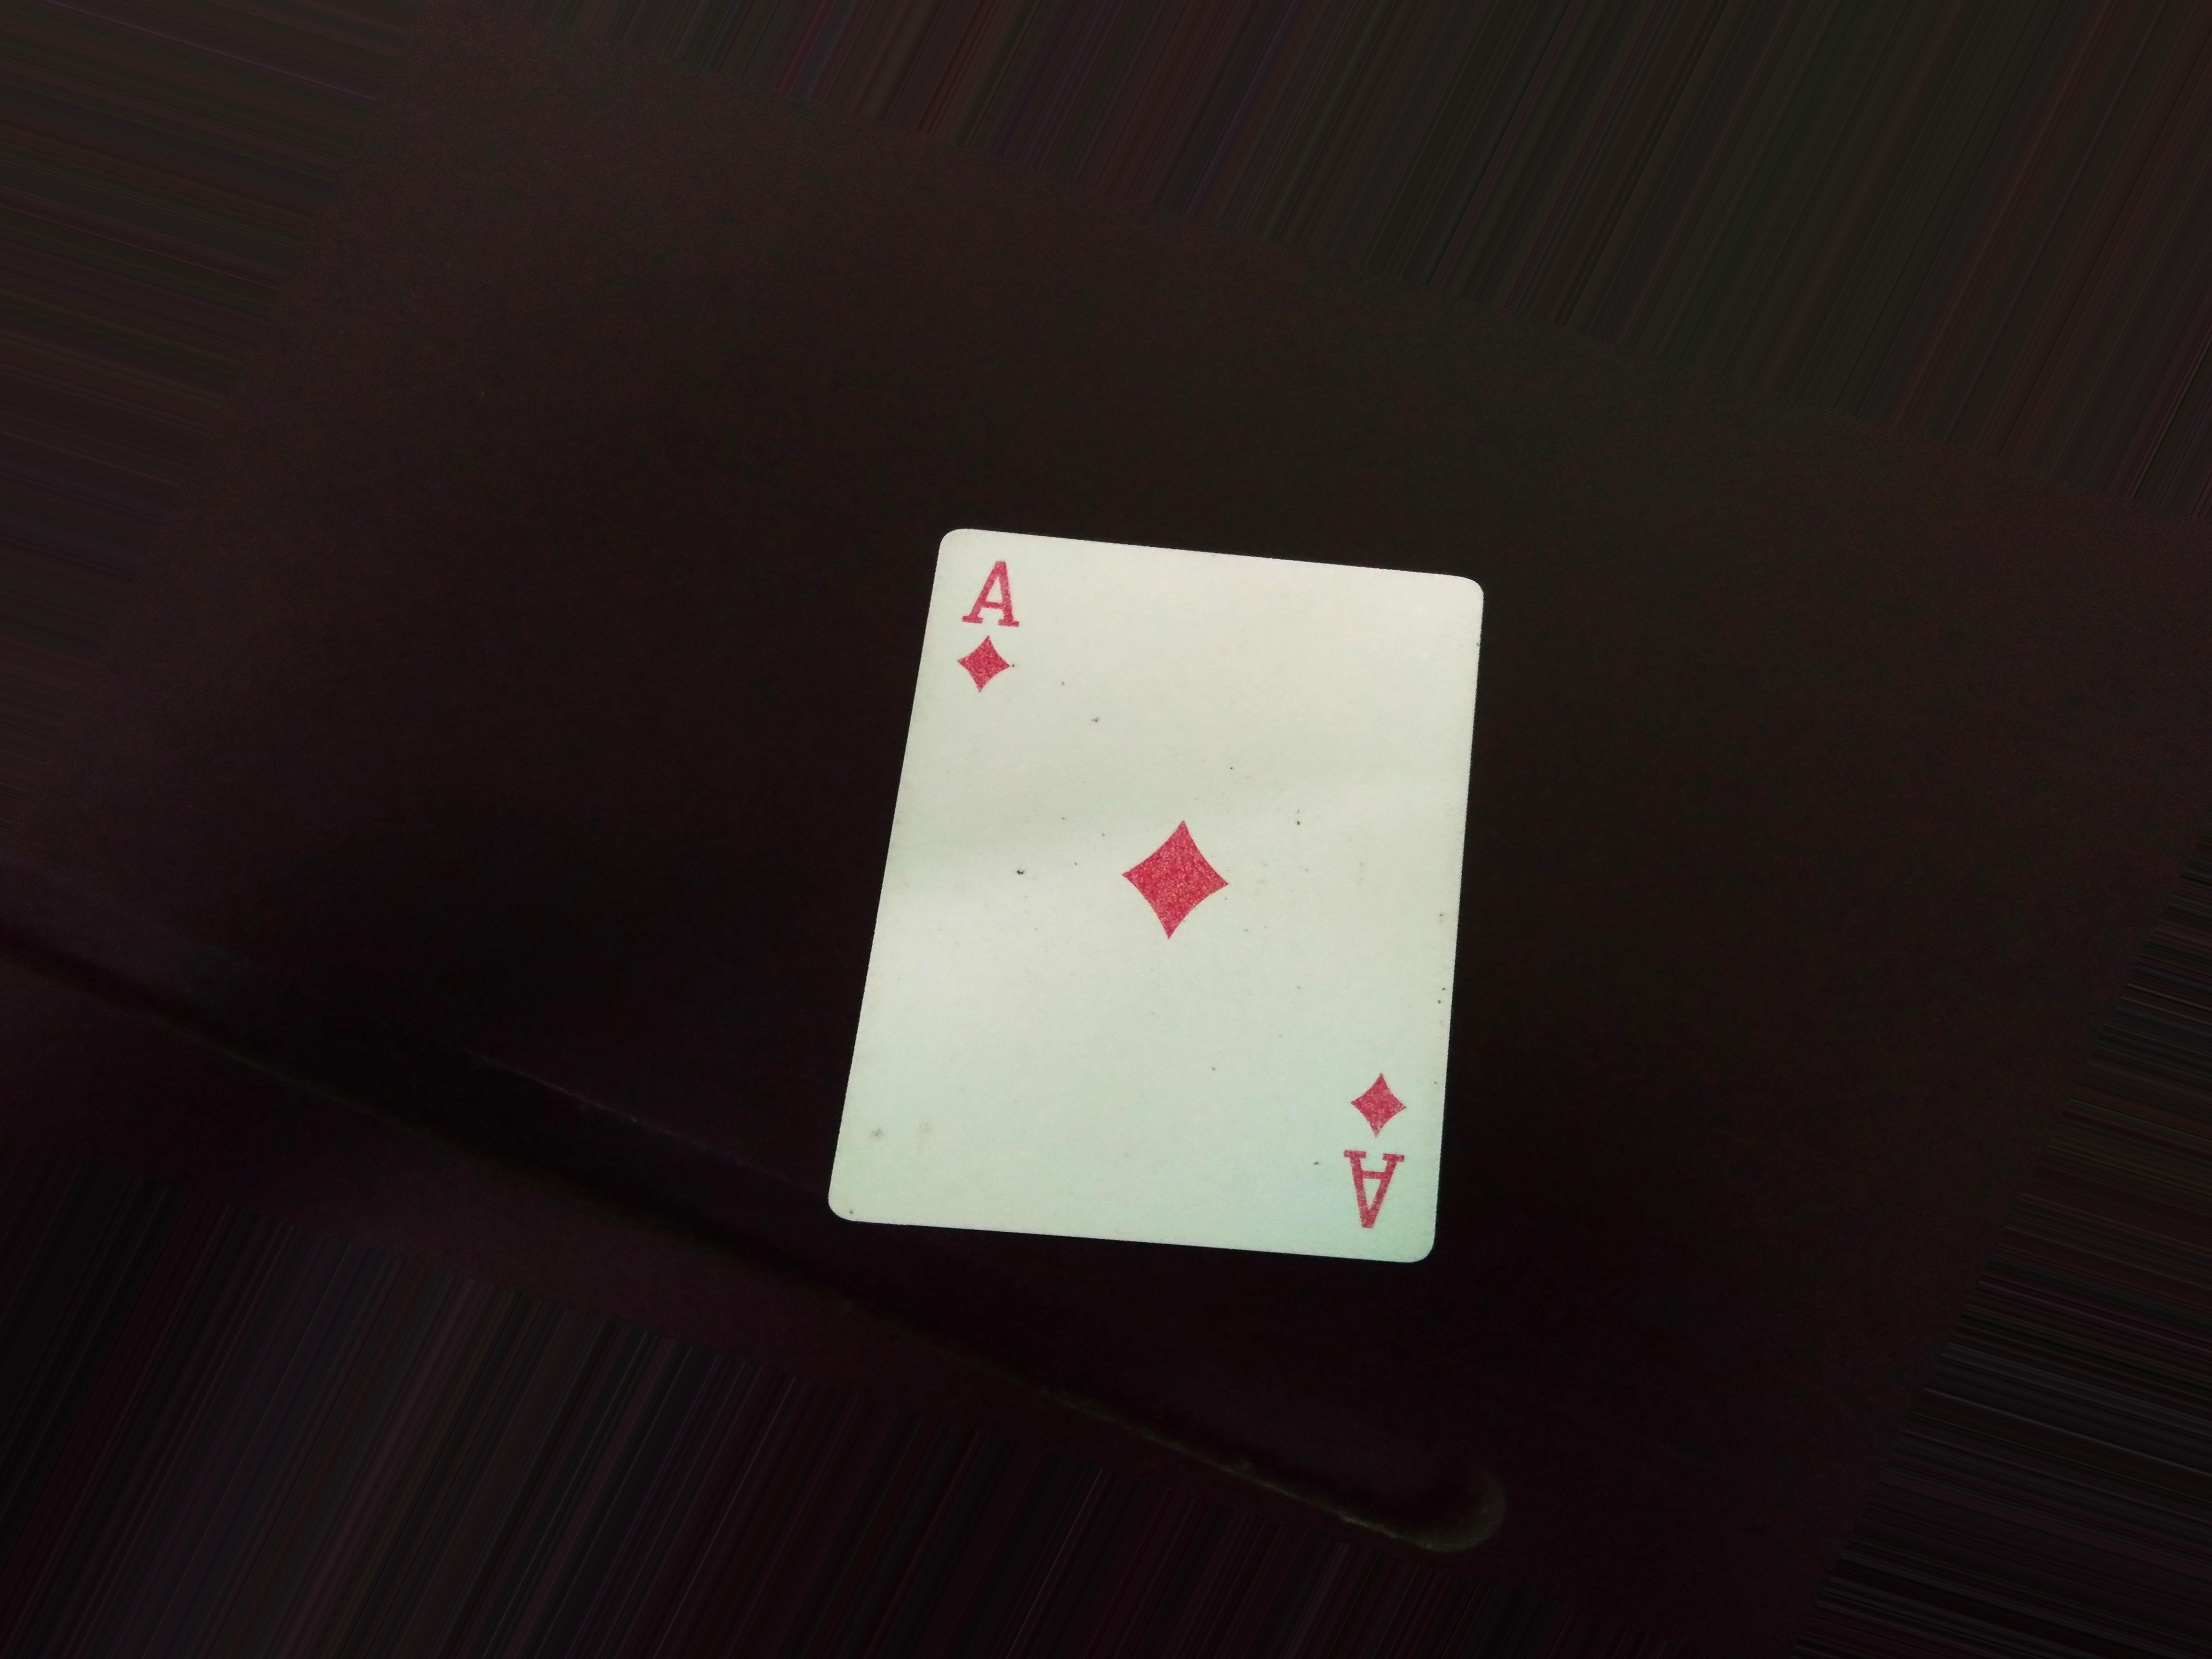AD: (1350, 1070, 1413, 1237)
